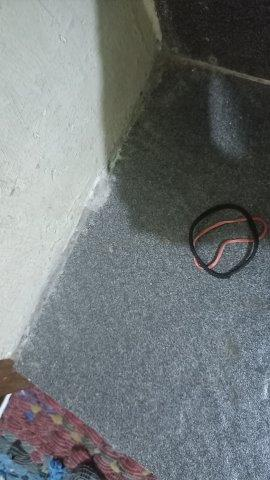karet: (189, 204, 268, 279)
